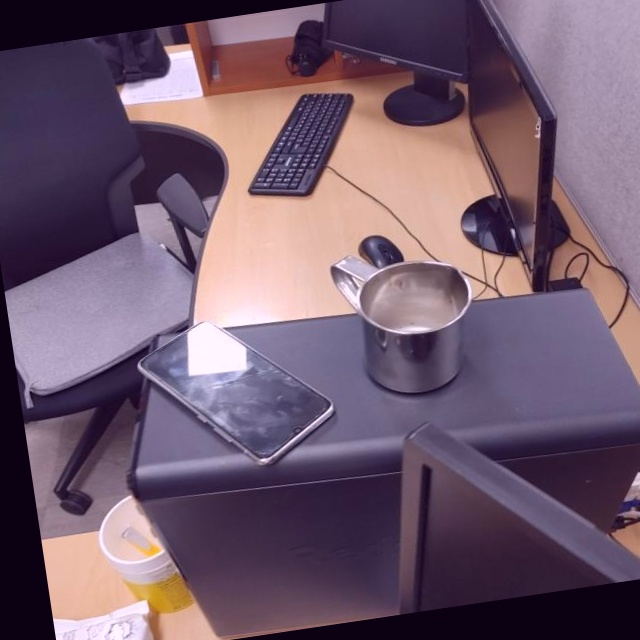cup: (326, 237, 486, 407)
phone: (130, 303, 342, 485)
